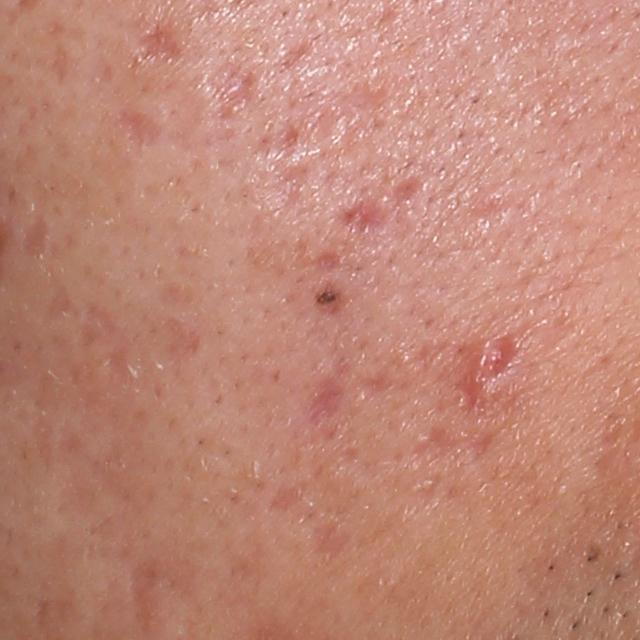atrophic_scar: (44, 281, 143, 389), (303, 353, 357, 439), (270, 109, 344, 164), (203, 56, 256, 123), (127, 553, 166, 639), (304, 513, 356, 569), (337, 191, 399, 235), (128, 20, 183, 68), (481, 325, 524, 384), (411, 418, 462, 463), (16, 208, 56, 264), (115, 111, 167, 153), (263, 475, 307, 521), (459, 423, 503, 461), (390, 169, 427, 204), (282, 39, 315, 74), (305, 251, 343, 271)
nevus: (311, 283, 340, 310)
